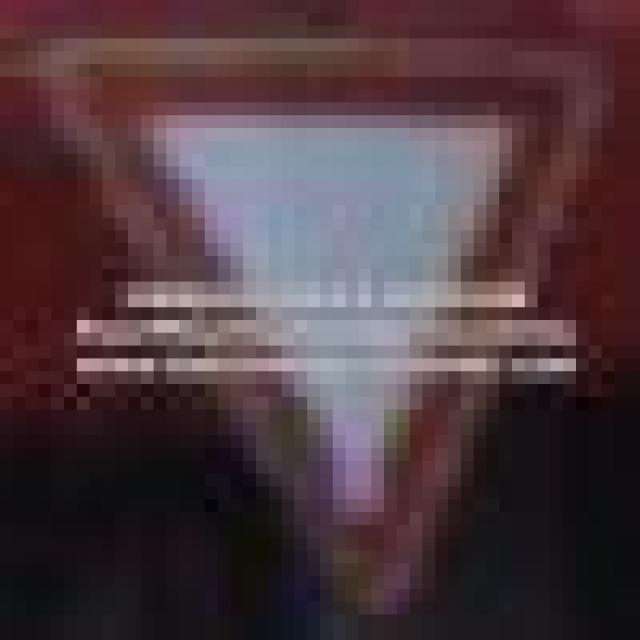gap_in_median: (38, 26, 628, 602)
